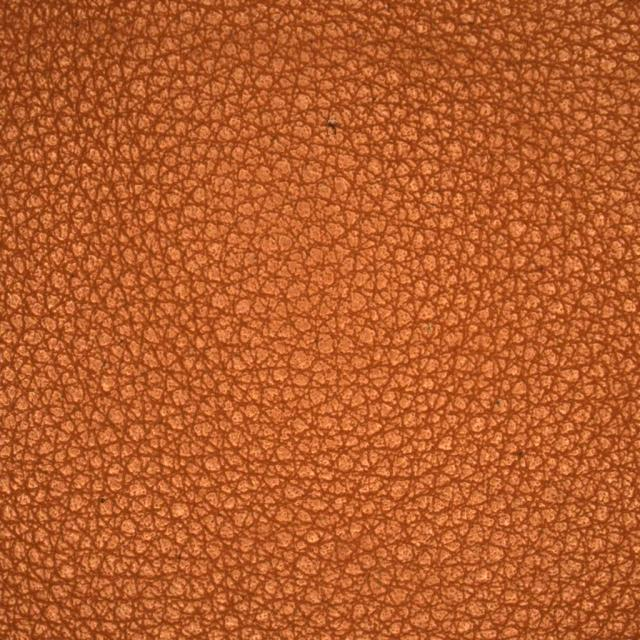Hole: (236, 54, 417, 198)
